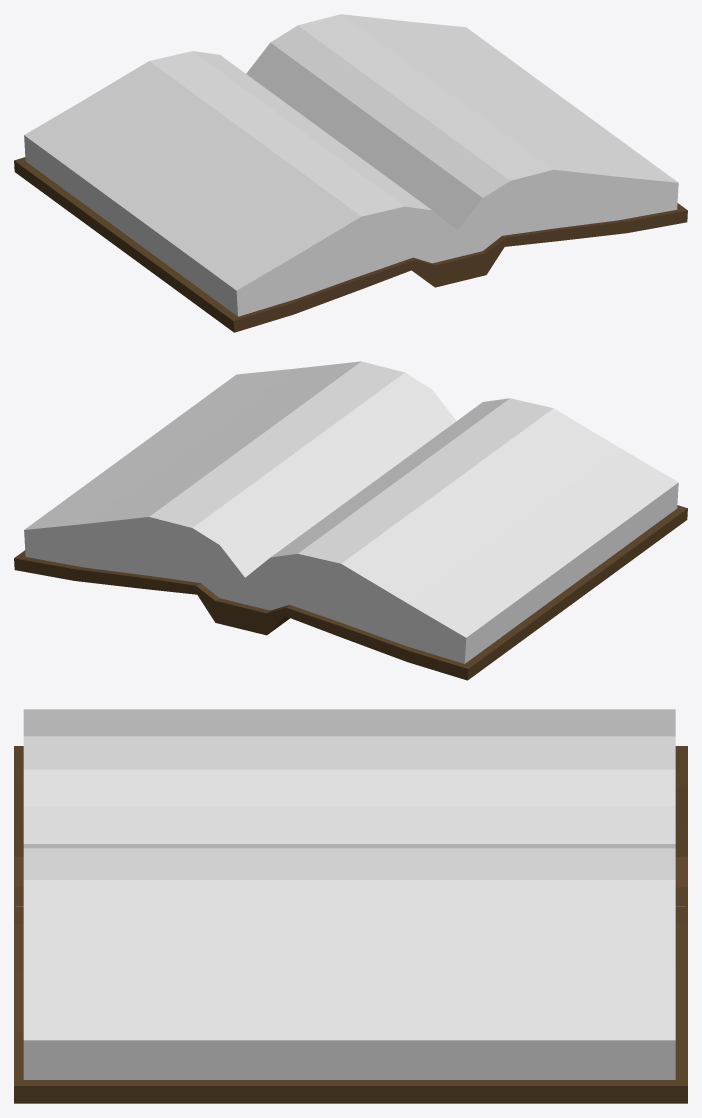
The model's file is lowpolybook.glb.
3 renders of one model, top to bottom at view 1: azimuth 30°, elevation 25°; view 2: azimuth 150°, elevation 25°; view 3: azimuth 270°, elevation 25°, orthographic. The views are drawn at different scales.
Visible parts, largest first — view 1: Cube; view 2: Cube; view 3: Cube.
Boxes of the visible parts, bbox=[...] form: Cube: bbox=[14, 14, 687, 332]; Cube: bbox=[14, 361, 687, 680]; Cube: bbox=[14, 709, 687, 1103].
Size of the model in its own units: 2.47 by 0.4461 by 2.07.
